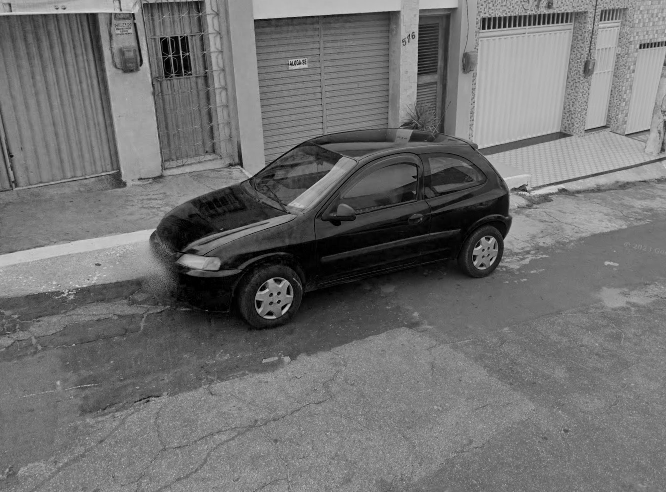car: (145, 99, 516, 332)
